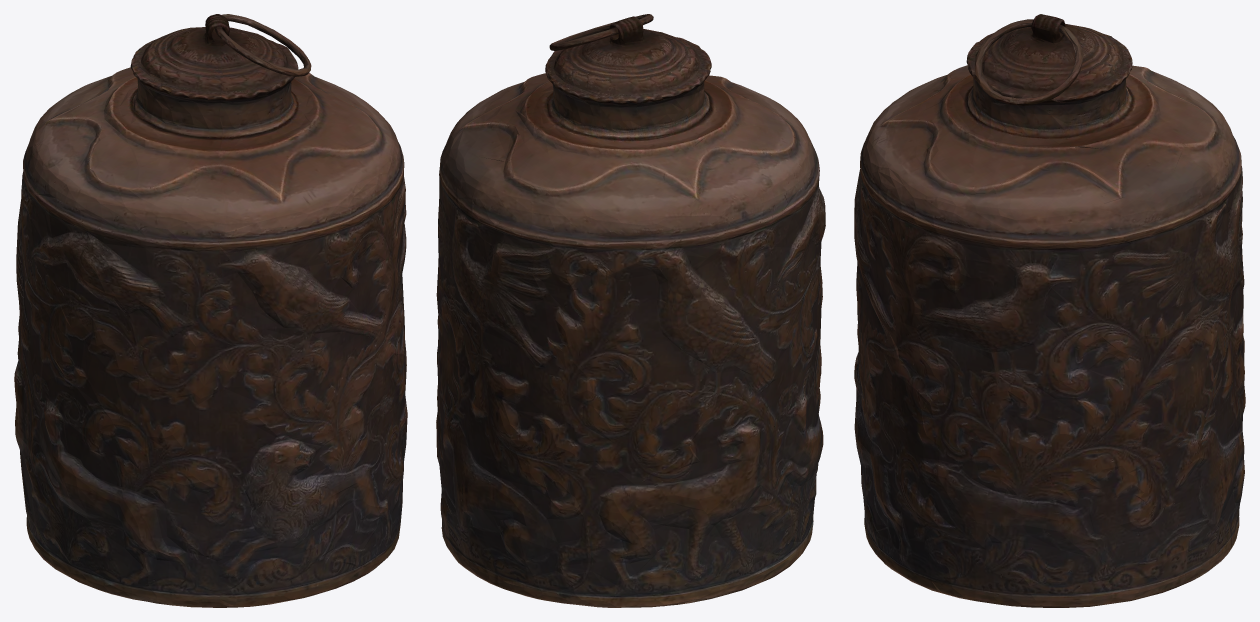
The model's file is especiarias.glb.
3 views of the same model, side by side, from view 1: azimuth 30°, elevation 25°; view 2: azimuth 150°, elevation 25°; view 3: azimuth 270°, elevation 25° (orthographic).
Size of the model in its own units: 2.06 by 3 by 2.04.
Materials: 1 (1 with a texture image).
